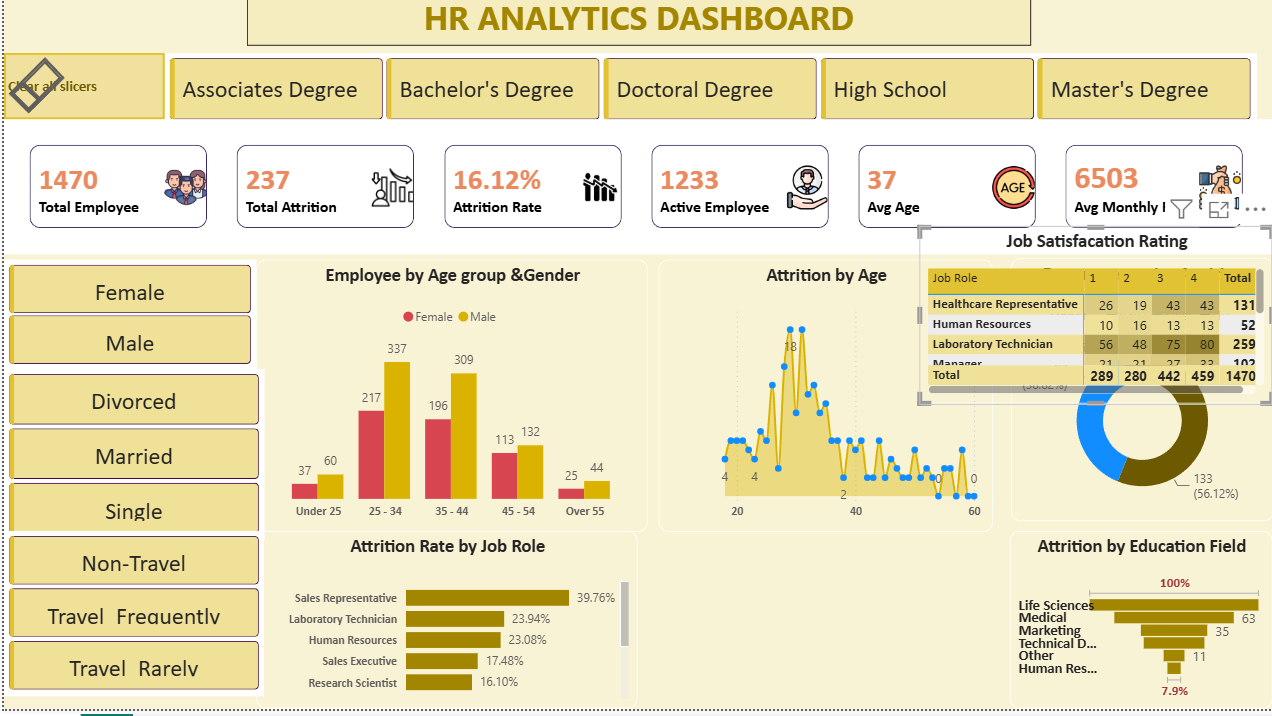

This screenshot's page, from the dashboard's own definition file:
{"tool":"powerbi","page":{"name":"Dashboard","canvas":[1280,720],"ordinal":0},"visuals":[{"type":"cardVisual","fields":{"Data":["Sum(HR data.Employee Count)","HR data.Total Attrition","HR data.Attrition Rate","HR data.Active Employee","Avg(HR data.Age)","Avg(HR data.Monthly Income)"]},"box":[0,125.3,1280,136],"z":0},{"type":"clusteredColumnChart","title":"Employee by Age group &Gender","fields":{"Category":["HR data.Age Group"],"Y":["HR data.Total Employees"],"Series":["HR data.Gender"]},"box":[255.1,266.3,394.5,275],"z":1000},{"type":"areaChart","title":" Attrition by Age","fields":{"Category":["HR data.Age"],"Y":["HR data.Total Attrition"]},"box":[660.8,266.3,337.2,275],"z":2000},{"type":"donutChart","title":" Department wise Attrition","fields":{"Category":["HR data.Department"],"Y":["HR data.Total Attrition"]},"box":[1015.7,265.7,265.1,265.1],"z":3000},{"type":"barChart","fields":{"Category":["HR data.Job Role"],"Y":["HR data.Attrition Rate"]},"box":[255.1,541.3,384.5,179.2],"z":4000},{"type":"pivotTable","title":"Job Satisfacation Rating","fields":{"Rows":["HR data.Job Role"],"Columns":["HR data.Job Satisfaction"],"Values":["HR data.Total Employees"]},"box":[649.6,541.3,357.2,179.2],"z":5000},{"type":"funnel","title":"Attrition by Education Field","fields":{"Y":["HR data.Total Attrition"],"Category":["HR data.Education Field"]},"box":[1014.2,541.3,265.1,179.2],"z":6000},{"type":"advancedSlicerVisual","fields":{"Values":["HR data.Gender"]},"box":[0,267,254.7,110.3],"z":7000},{"type":"advancedSlicerVisual","fields":{"Values":["HR data.Marital Status"]},"box":[0,377.3,262.9,171.6],"z":8000},{"type":"advancedSlicerVisual","fields":{"Values":["HR data.Business Travel"]},"box":[0,541.3,262.6,166.8],"z":9000},{"type":"advancedSlicerVisual","fields":{"Values":["HR data.Education"]},"box":[162.1,58.6,1102,72.2],"z":9001},{"type":"actionButton","box":[0,58.6,162.1,66.7],"z":9002},{"type":"textbox","box":[245.2,0,791,51],"z":9003}]}

Visuals, with their boxes in screenshot pixels (x1, y1, x2, y2), scaled from the page's 1280x720 canvas onto the 1272x716 screenshot:
cardVisual - Sum(HR data.Employee Count) x HR data.Total Attrition: BBox(0, 125, 1271, 260)
"Employee by Age group &Gender" clusteredColumnChart: BBox(254, 265, 646, 538)
" Attrition by Age" areaChart: BBox(657, 265, 992, 538)
" Department wise Attrition" donutChart: BBox(1009, 264, 1271, 528)
barChart - HR data.Job Role x HR data.Attrition Rate: BBox(254, 538, 636, 715)
"Job Satisfacation Rating" pivotTable: BBox(646, 538, 1001, 715)
"Attrition by Education Field" funnel: BBox(1008, 538, 1271, 715)
advancedSlicerVisual - HR data.Gender: BBox(0, 266, 253, 375)
advancedSlicerVisual - HR data.Marital Status: BBox(0, 375, 261, 546)
advancedSlicerVisual - HR data.Business Travel: BBox(0, 538, 261, 704)
advancedSlicerVisual - HR data.Education: BBox(161, 58, 1256, 130)
actionButton: BBox(0, 58, 161, 125)
textbox: BBox(244, 0, 1030, 51)
